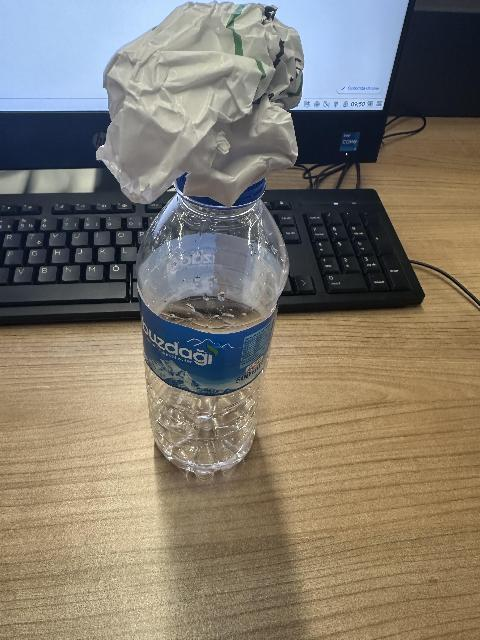Kagit: (90, 0, 310, 202)
Plastik: (133, 206, 276, 468), (125, 311, 286, 394)
